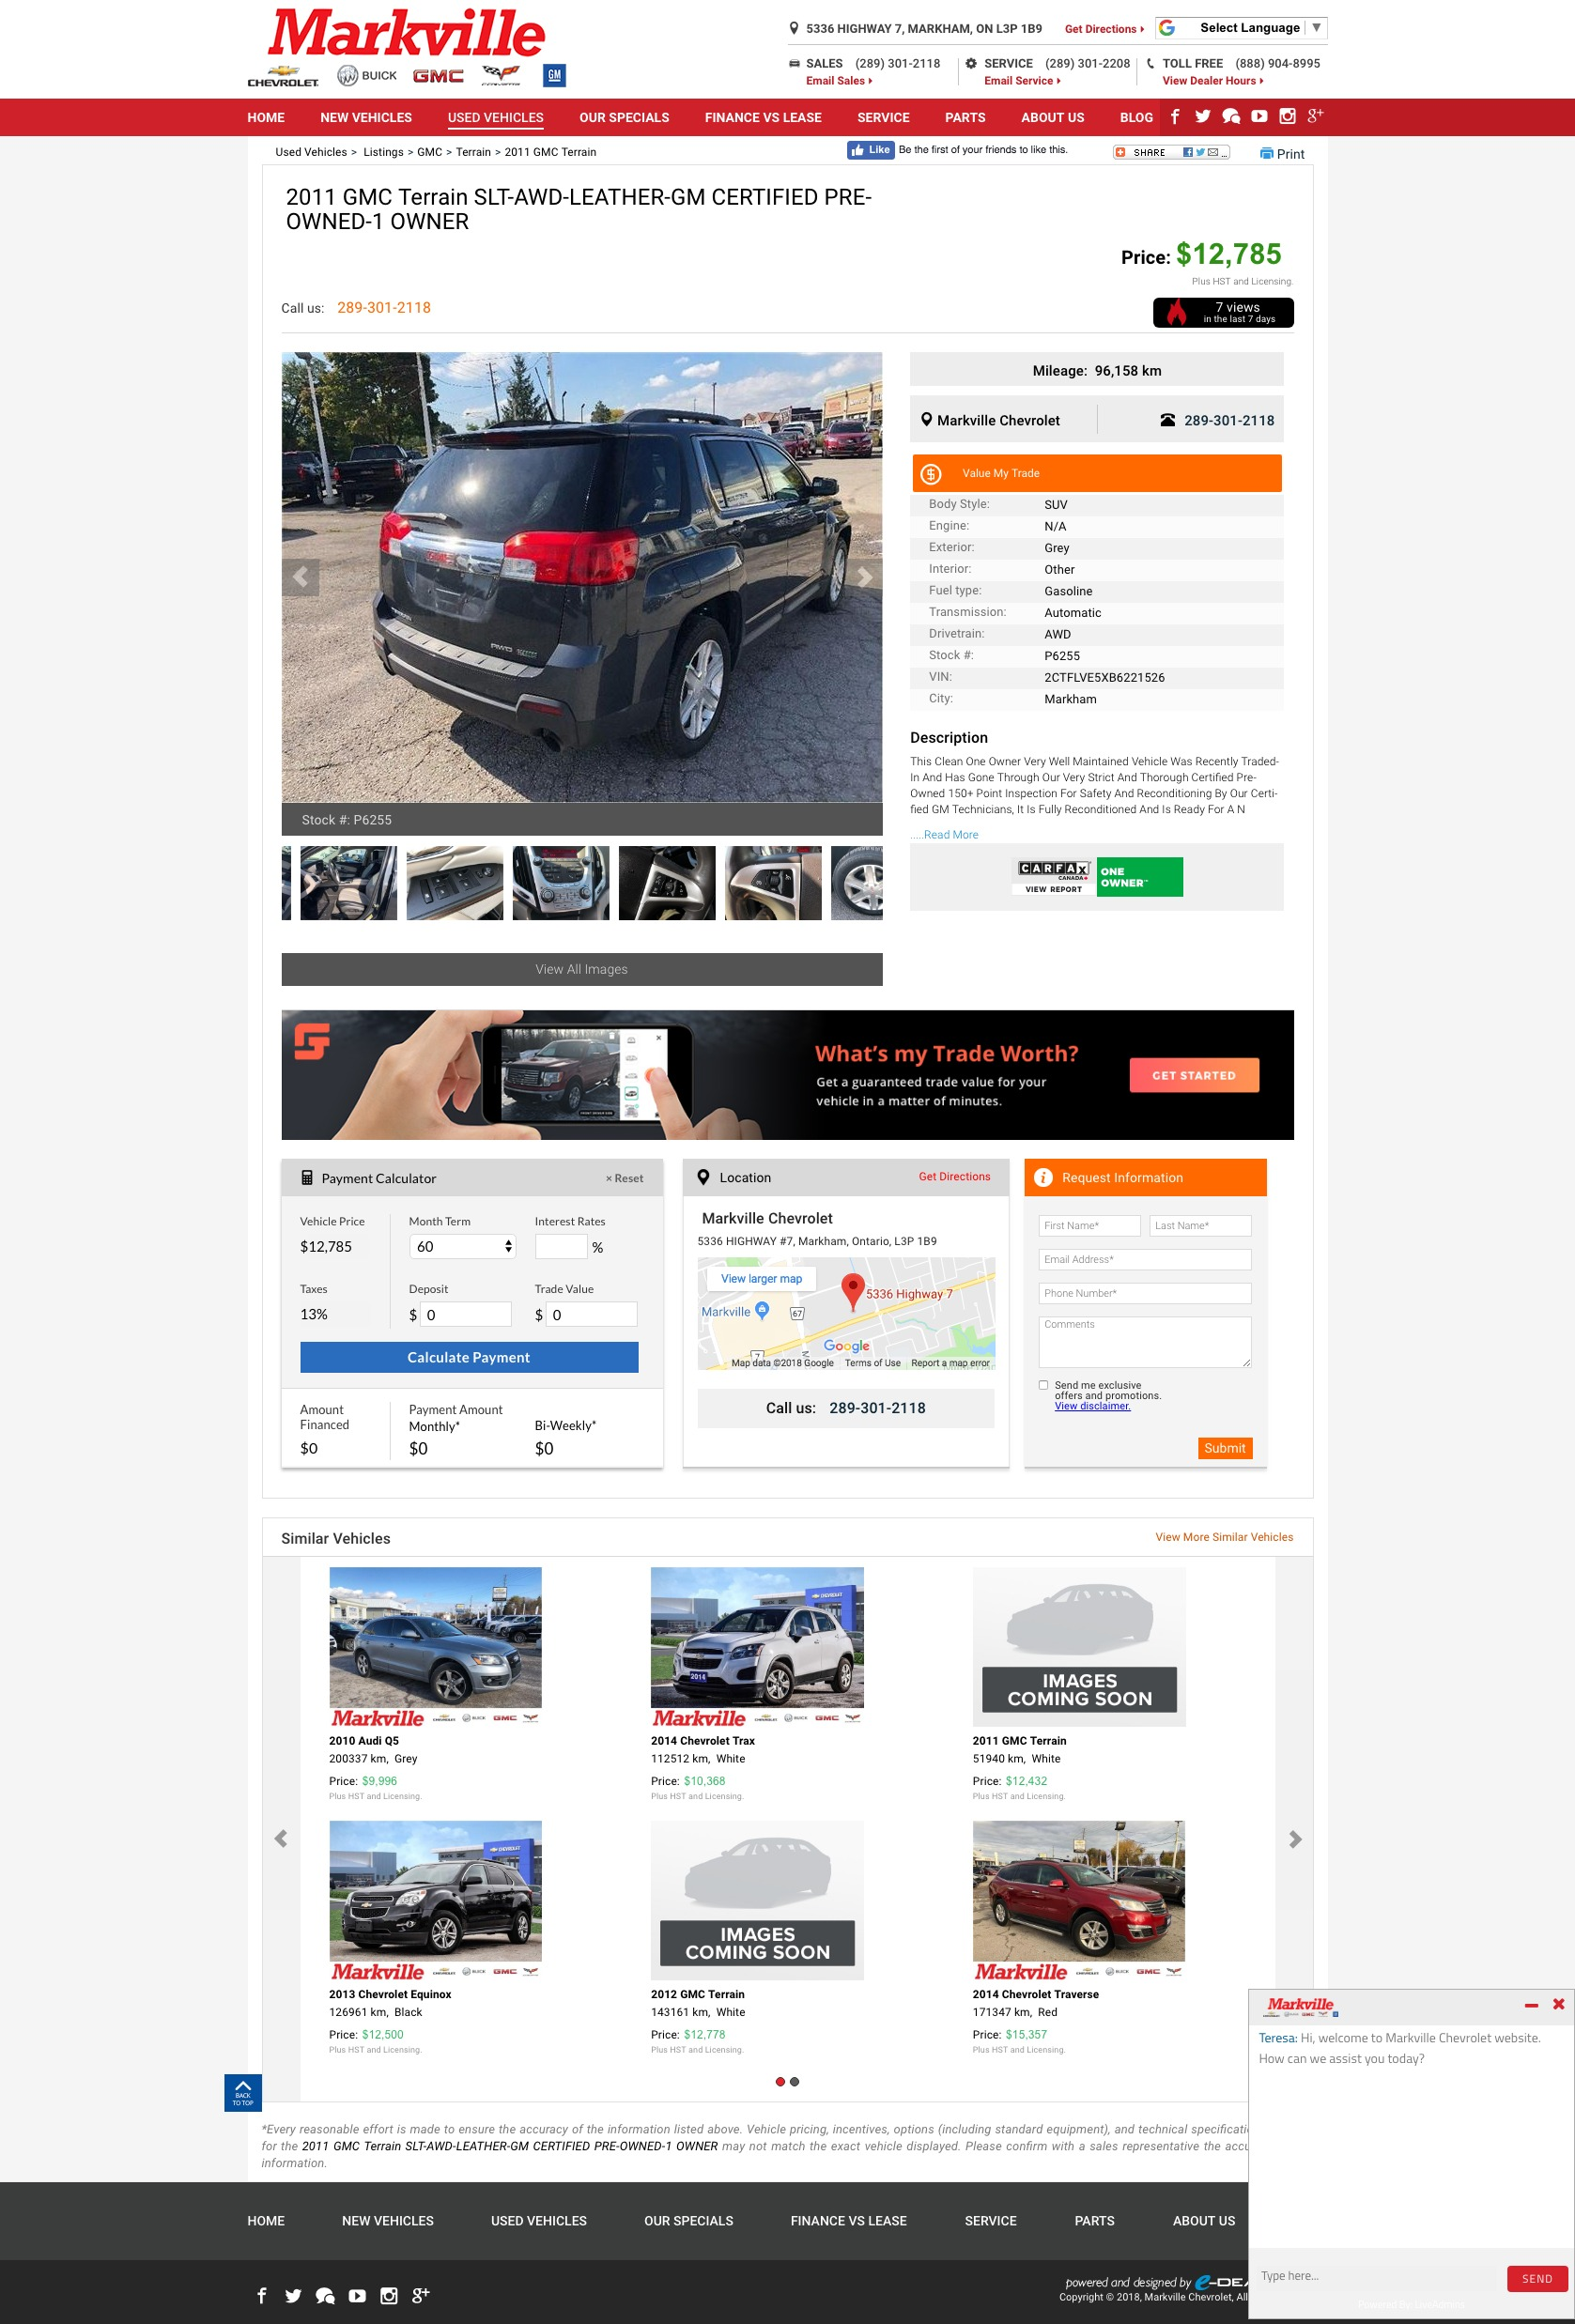car: (846, 557, 886, 601)
